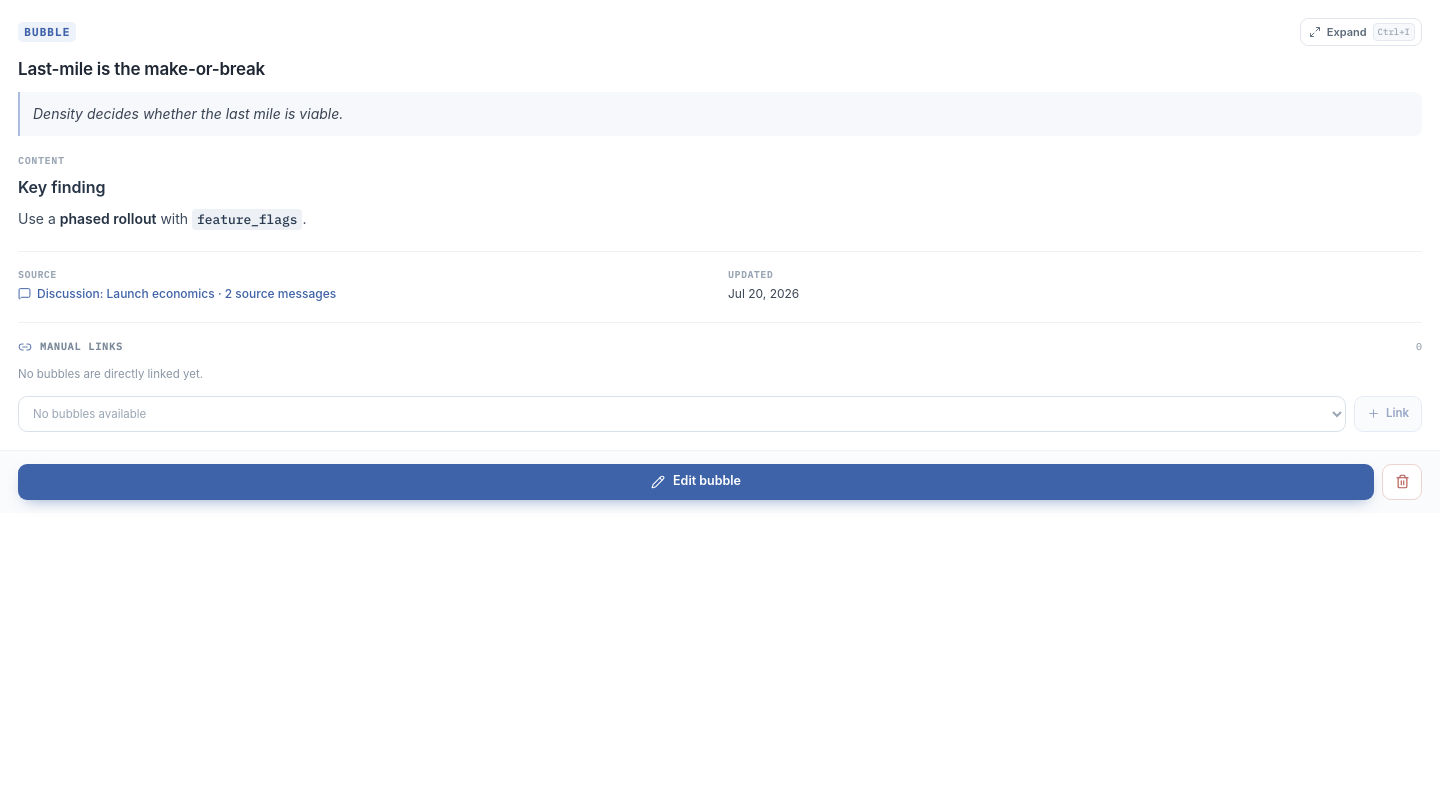
Scenario: BubbleInspector › renders markdown content compactly and preserves its source while editing
Expected: the heading "Key finding" is shown, [18,177,106,197]
Expected: the text "phased rollout" is shown, [60,210,156,227]
Click the button "Edit bubble".
click(696, 482)  # box [18,464,1374,500]
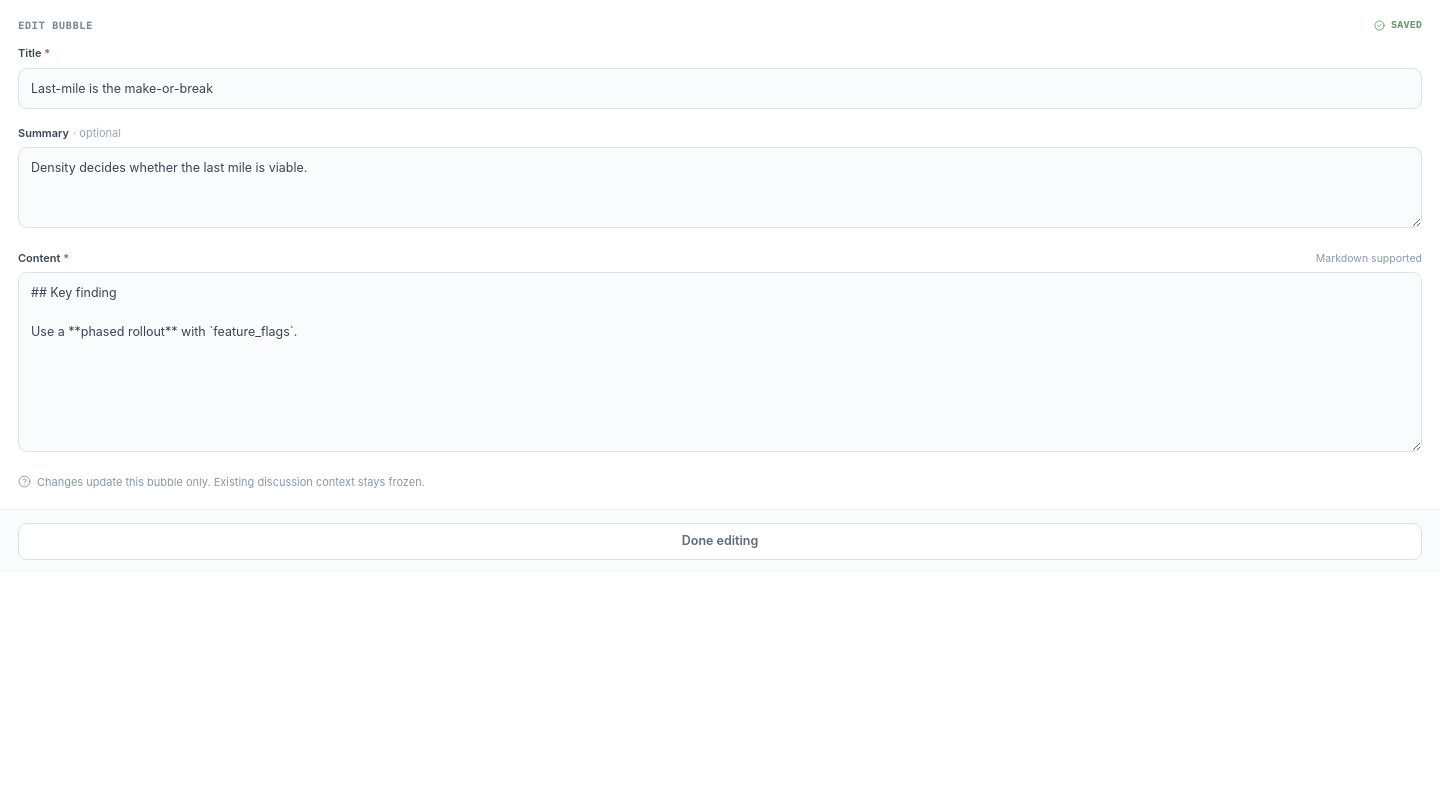
Expected: the text "Markdown supported" is shown, [1316,250,1422,266]
